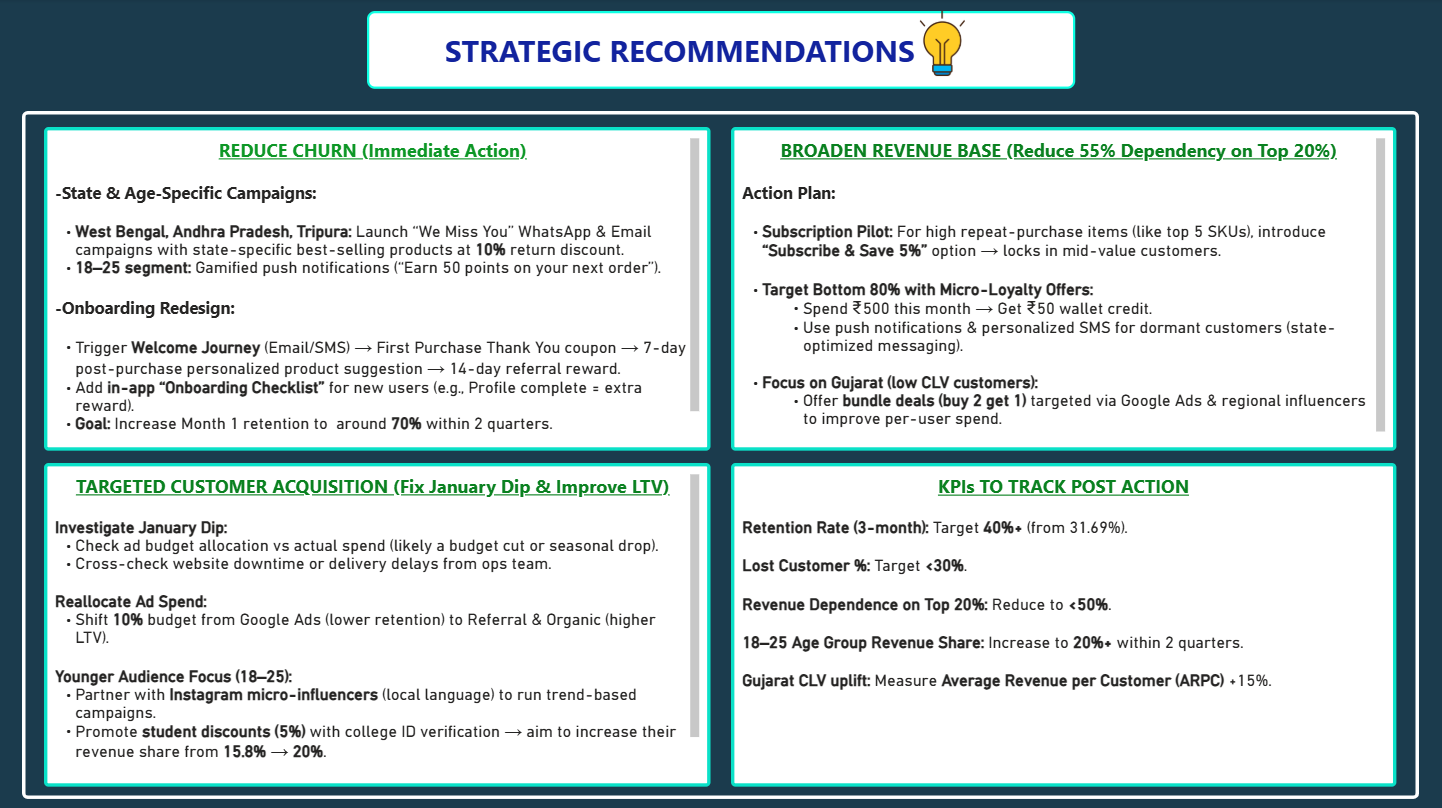

Layout of this report page (visuals, bound fields, positions):
{"tool":"powerbi","page":{"name":"Strategic Recommendations","canvas":[1280,720],"ordinal":4},"visuals":[{"type":"textbox","box":[326.3,10.6,627.8,69.2],"z":0},{"type":"shape","box":[20.4,99.3,1238.7,610],"z":1000},{"type":"textbox","box":[649.1,113.5,589.7,287],"z":2000},{"type":"textbox","box":[39.9,411.4,591.4,287.3],"z":3000},{"type":"textbox","box":[649.1,411.4,589.7,287],"z":4000},{"type":"textbox","box":[39.9,113.5,591.4,287],"z":5000},{"type":"image","box":[802.5,5.3,68.3,68.3],"z":6000}]}

Visuals, with their boxes in screenshot pixels (x1, y1, x2, y2), scaled from the page's 1280x720 canvas onto the 1442x808 screenshot:
textbox: box(368, 12, 1075, 90)
shape: box(23, 111, 1418, 796)
textbox: box(731, 127, 1396, 449)
textbox: box(45, 462, 711, 784)
textbox: box(731, 462, 1396, 784)
textbox: box(45, 127, 711, 449)
image: box(904, 6, 981, 83)
